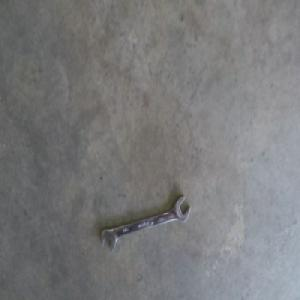Wrench: (99, 197, 190, 257)
